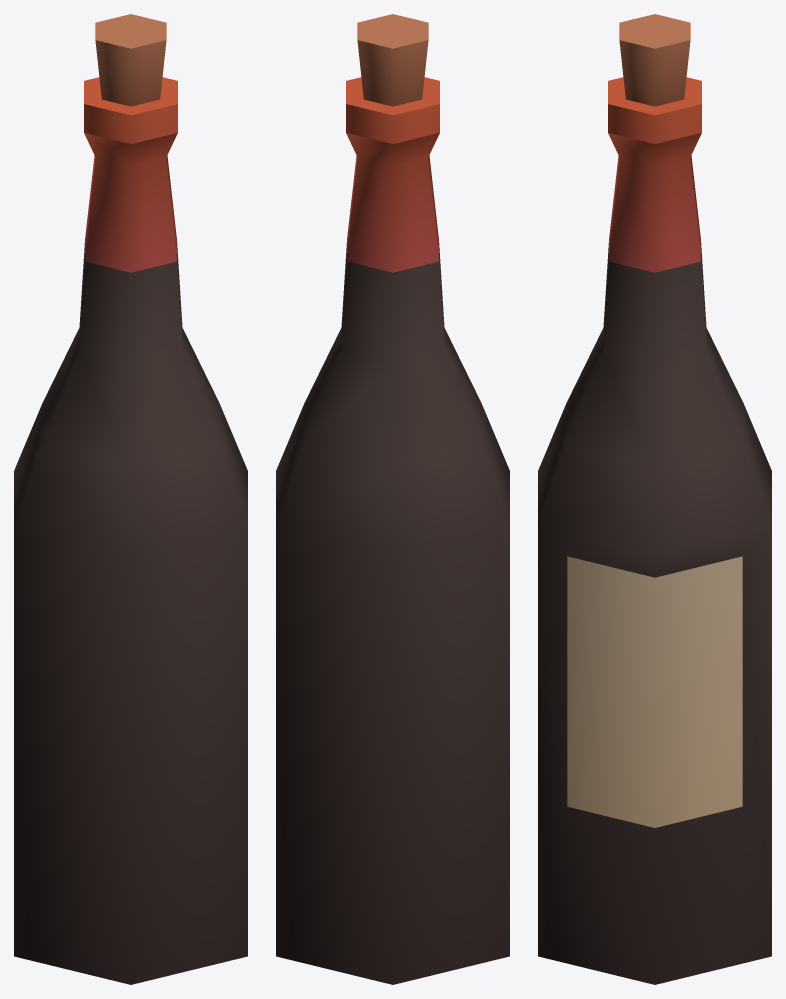
File: wine-red.glb
3 renders of one model, left to right at view 1: azimuth 30°, elevation 25°; view 2: azimuth 150°, elevation 25°; view 3: azimuth 270°, elevation 25°, orthographic.
Parts seen in each view (by area): view 1: wine-red; view 2: wine-red; view 3: wine-red.
Boxes of the visible parts, x1=… form: wine-red: x1=14, y1=14, x2=247, y2=984; wine-red: x1=276, y1=14, x2=509, y2=984; wine-red: x1=538, y1=14, x2=771, y2=984.
Size of the model in its own units: 0.1908 by 0.6989 by 0.1652.
